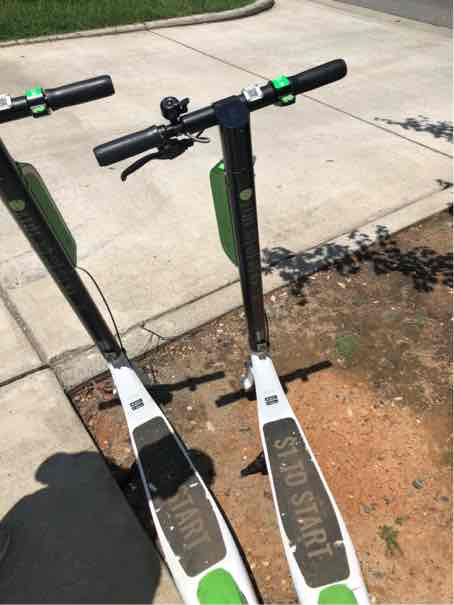scooter: (93, 68, 424, 605)
